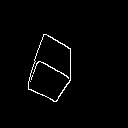cube: (17, 30, 85, 106)
